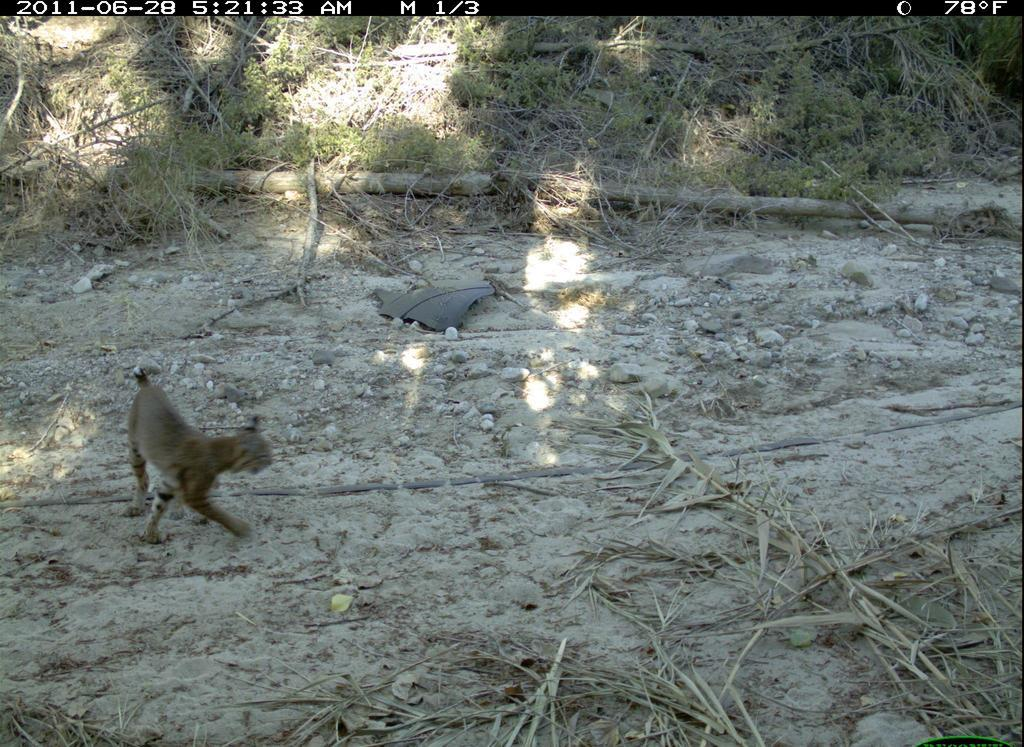bobcat: (104, 355, 283, 551)
